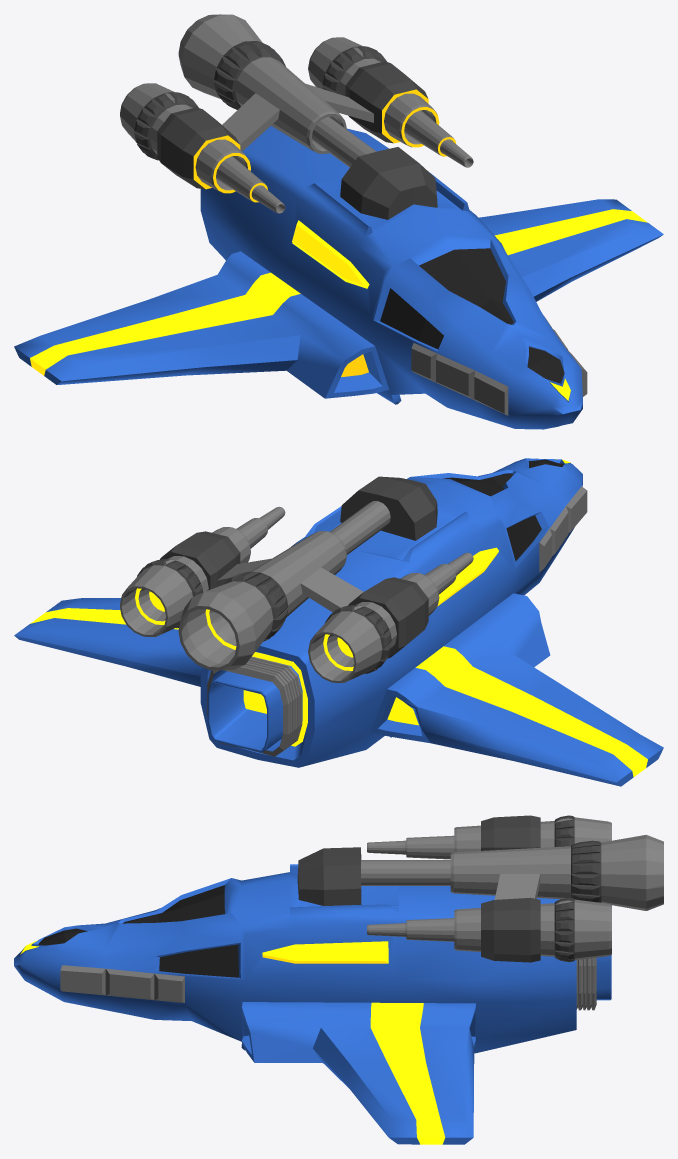
Rendered from spaceship_raider_class__pathfinder.glb.
3 views of the same model, one above another, from view 1: azimuth 30°, elevation 25°; view 2: azimuth 150°, elevation 25°; view 3: azimuth 270°, elevation 25° (orthographic). The views are drawn at different scales.
Visible parts, largest first — view 1: Cube_0; view 2: Cube_0; view 3: Cube_0.
Part boxes in pixels (x1,y1,x2,y2): Cube_0: [14, 14, 663, 429]; Cube_0: [14, 458, 663, 786]; Cube_0: [14, 815, 663, 1144].
Size of the model in its own units: 11.18 by 4 by 11.67.
